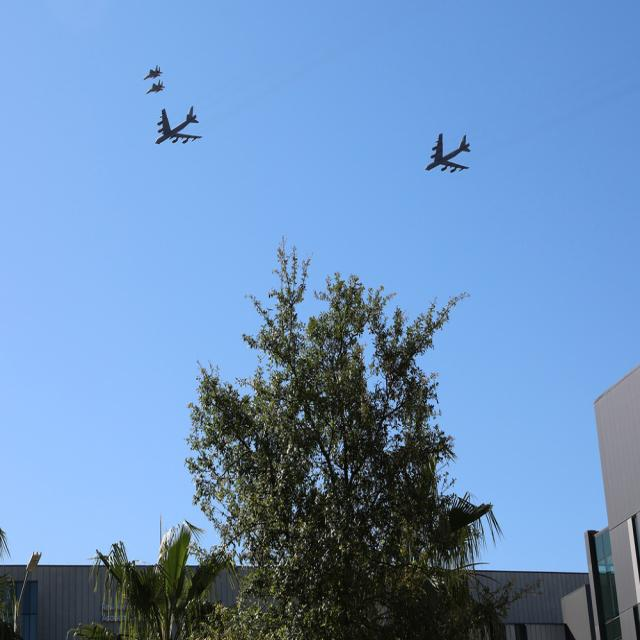MIL_Plane: (154, 102, 203, 143), (424, 133, 471, 173), (144, 94, 166, 110), (142, 64, 163, 80)
